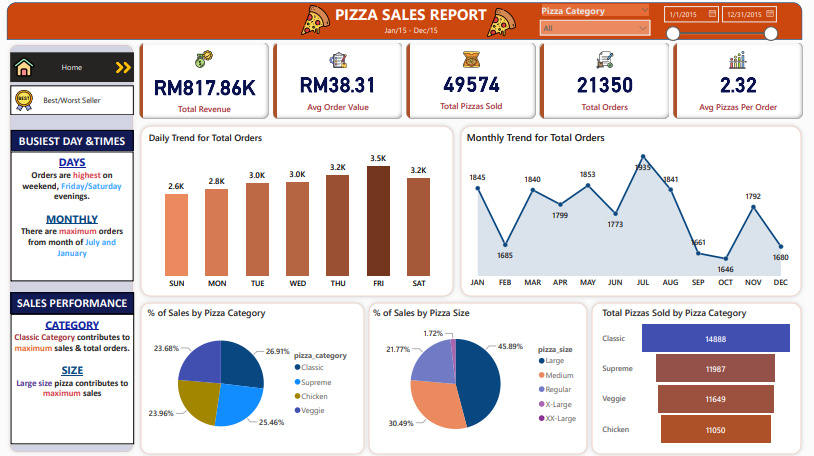

The dashboard page shown, as its layout file describes it:
{"tool":"powerbi","page":{"name":"Home","canvas":[1500,820],"ordinal":0},"visuals":[{"type":"shape","box":[68.3,70,230,731.7],"z":0},{"type":"cardVisual","fields":{"Data":["pizzadb pizza_sales.Total Revenue","pizzadb pizza_sales.Avg Order Value","pizzadb pizza_sales.Total Pizzas Sold","pizzadb pizza_sales.Total Orders","pizzadb pizza_sales.Avg Pizzas Per Order"]},"box":[298.2,70.2,1177.2,143.9],"z":1000},{"type":"slicer","fields":{"Values":["pizzadb pizza_sales.order_date"]},"box":[1213.9,0,221.7,91.7],"z":2000,"group":"g7"},{"type":"shape","box":[68.6,2.9,1401.4,65.7],"z":2000},{"type":"textbox","box":[76,228,216.4,37.6],"z":2000,"group":"g8"},{"type":"textbox","box":[725,38.3,113.3,31.7],"z":3000},{"type":"slicer","fields":{"Values":["pizzadb pizza_sales.pizza_category"]},"box":[998.3,0.6,213.3,66.7],"z":4000},{"type":"textbox","box":[76,265.6,216.4,228.5],"z":4000,"group":"g8"},{"type":"textbox","box":[626.7,0,308.3,46.7],"z":5000},{"type":"image","box":[583.3,0,60,68.3],"z":6000},{"type":"shape","box":[298.2,214,564.3,314.2],"z":6000,"group":"g1"},{"type":"shape","box":[298.3,525,406.7,280],"z":6000,"group":"g5"},{"type":"image","box":[910,3.3,60,68.3],"z":7000},{"type":"columnChart","title":"Daily Trend for Total Orders","fields":{"Category":["pizzadb pizza_sales.Order Day"],"Y":["pizzadb pizza_sales.Total Orders"]},"box":[314.3,230.3,535.7,285.3],"z":7000,"group":"g1"},{"type":"shape","box":[700,525,398.3,280],"z":7000,"group":"g4"},{"type":"group","id":"g1","title":"Group 1","box":[298.2,214,563.2,314],"z":8000},{"type":"shape","box":[861.4,214,614.3,314.2],"z":8000,"group":"g2"},{"type":"donutChart","title":"% of Sales by Pizza Category","fields":{"Category":["pizzadb pizza_sales.pizza_category"],"Y":["pizzadb pizza_sales.Total Revenue"]},"box":[312.2,539.5,377.1,249.3],"z":8000,"group":"g5"},{"type":"group","id":"g2","title":"Group 2","box":[861.4,214,614,314],"z":9000},{"type":"areaChart","title":"Monthly Trend for Total Orders","fields":{"Y":["pizzadb pizza_sales.Total Orders"],"Category":["pizzadb pizza_sales.Order Month"]},"box":[873.9,228.4,583.9,285.3],"z":9000,"group":"g2"},{"type":"donutChart","title":"% of Sales by Pizza Size","fields":{"Y":["pizzadb pizza_sales.Total Revenue"],"Category":["pizzadb pizza_sales.pizza_size"]},"box":[708.8,539.5,380.8,251.1],"z":9000,"group":"g4"},{"type":"group","id":"g3","title":"Group 3","box":[1091.7,525,383.3,280],"z":10000},{"type":"group","id":"g4","title":"Group 4","box":[700,525,398.3,280],"z":11000},{"type":"textbox","box":[76,514,216.7,37.7],"z":12000,"group":"g6"},{"type":"group","id":"g5","title":"Group 5","box":[298.3,525,406.7,280],"z":12000},{"type":"shape","box":[1091.7,525,383.3,280],"z":12000,"group":"g3"},{"type":"group","id":"g6","title":"Group 6","box":[76,514,216,266],"z":13000},{"type":"textbox","box":[76,551.7,216.7,229],"z":13000,"group":"g6"},{"type":"group","id":"g7","title":"Group 6","box":[1213.9,0,221.7,91.7],"z":14000},{"type":"funnel","title":"Total Pizzas Sold by Pizza Category ","fields":{"Category":["pizzadb pizza_sales.pizza_category"],"Y":["pizzadb pizza_sales.Total Pizzas Sold"]},"box":[1112.7,539.5,344.8,249.3],"z":14001,"group":"g3"},{"type":"pageNavigator","box":[75.6,91.9,216.3,51.2],"z":15000},{"type":"pageNavigator","box":[75.6,150,216.3,51.2],"z":16000},{"type":"group","id":"g8","title":"Group 7","box":[76,228,216,266],"z":17000},{"type":"image","box":[76.1,136.4,45.5,78.4],"z":18000},{"type":"image","box":[76.1,78.4,45.5,76.1],"z":19000},{"type":"image","box":[256.8,84.1,35.2,65.9],"z":20000}]}

Visuals, with their boxes in screenshot pixels (x1, y1, x2, y2), scaled from the page's 1500x820 canvas onto the 814x456 screenshot:
shape: 37 39 162 446
cardVisual - pizzadb pizza_sales.Total Revenue x pizzadb pizza_sales.Avg Order Value: 162 39 801 119
slicer - pizzadb pizza_sales.order_date: 659 0 779 51
shape: 37 2 798 38
textbox: 41 127 159 148
textbox: 393 21 455 39
slicer - pizzadb pizza_sales.pizza_category: 542 0 657 37
textbox: 41 148 159 275
textbox: 340 0 507 26
image: 317 0 349 38
shape: 162 119 468 294
shape: 162 292 383 448
image: 494 2 526 40
"Daily Trend for Total Orders" columnChart: 171 128 461 287
shape: 380 292 596 448
"Group 1" group: 162 119 467 294
shape: 467 119 801 294
"% of Sales by Pizza Category" donutChart: 169 300 374 439
"Group 2" group: 467 119 801 294
"Monthly Trend for Total Orders" areaChart: 474 127 791 286
"% of Sales by Pizza Size" donutChart: 385 300 591 440
"Group 3" group: 592 292 800 448
"Group 4" group: 380 292 596 448
textbox: 41 286 159 307
"Group 5" group: 162 292 383 448
shape: 592 292 800 448
"Group 6" group: 41 286 158 434
textbox: 41 307 159 434
"Group 6" group: 659 0 779 51
"Total Pizzas Sold by Pizza Category " funnel: 604 300 791 439
pageNavigator: 41 51 158 80
pageNavigator: 41 83 158 112
"Group 7" group: 41 127 158 275
image: 41 76 66 119
image: 41 44 66 86
image: 139 47 158 83
